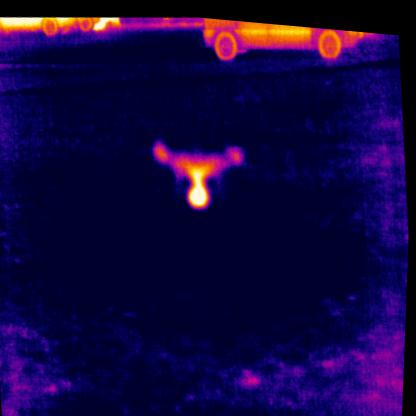drone: (151, 129, 250, 211)
